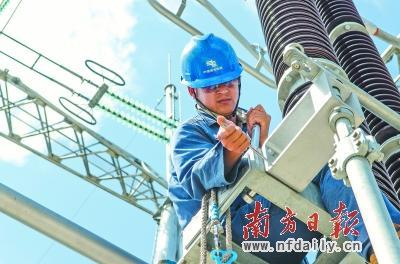helmet: (175, 27, 249, 123)
